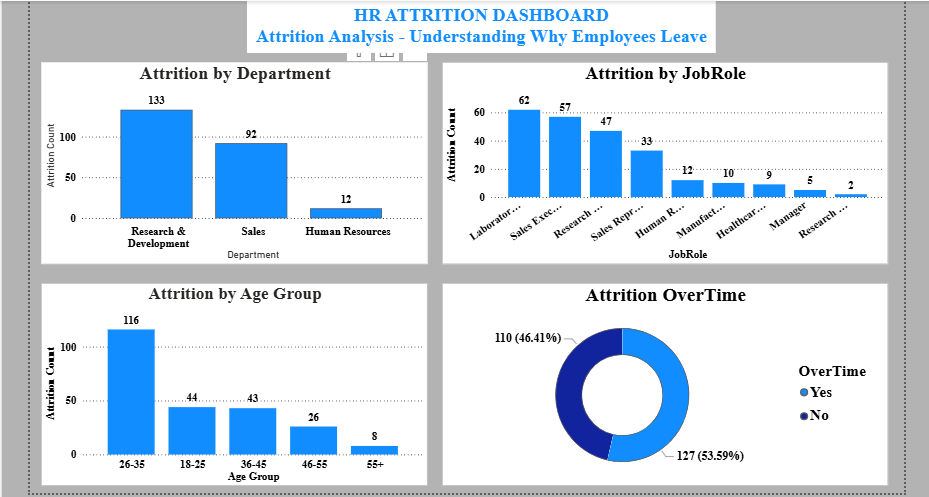

Layout of this report page (visuals, bound fields, positions):
{"tool":"powerbi","page":{"name":"Attrition Analysis","canvas":[1280,720],"ordinal":1},"visuals":[{"type":"columnChart","title":"Attrition  by Department","fields":{"Category":["data.Department"],"Y":["data.Attrition Count"]},"box":[16.1,89.3,566.3,295.6],"z":0},{"type":"columnChart","title":"Attrition  by JobRole","fields":{"Category":["data.JobRole"],"Y":["data.Attrition Count"]},"box":[602.9,89.3,652.7,295.6],"z":1000},{"type":"columnChart","title":"Attrition  by Age Group","fields":{"Category":["data.Age Group"],"Y":["data.Attrition Count"]},"box":[16.1,412.7,566.3,297.1],"z":2000},{"type":"donutChart","title":"Attrition  OverTime","fields":{"Category":["data.OverTime"],"Y":["data.Attrition Count"]},"box":[602.9,412.7,652.7,297.1],"z":3000},{"type":"textbox","box":[317.6,0,686.3,76.1],"z":4000}]}

Visuals, with their boxes on the page's 1280x720 design canvas (x1, y1, x2, y2). These are canvas units, not pixel positions in the 929x497 screenshot, which may show the page scaled, cropped or inside an application window:
"Attrition  by Department" columnChart: <region>16, 89, 582, 385</region>
"Attrition  by JobRole" columnChart: <region>603, 89, 1256, 385</region>
"Attrition  by Age Group" columnChart: <region>16, 413, 582, 710</region>
"Attrition  OverTime" donutChart: <region>603, 413, 1256, 710</region>
textbox: <region>318, 0, 1004, 76</region>
